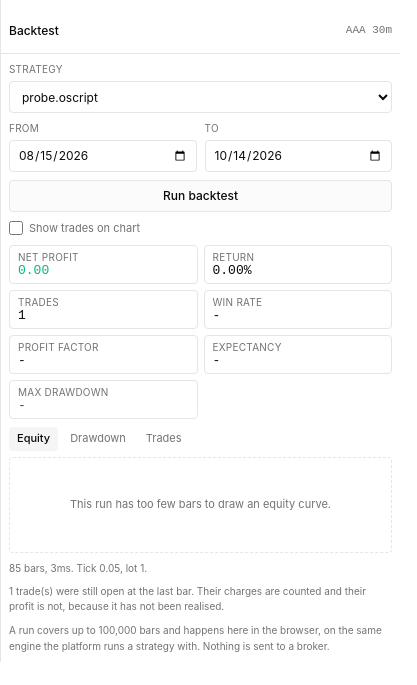
Test: the marks a run puts on the chart › puts the marks back when the switch is turned on, without running again
Expected: the text "85 bars, 3ms. Tick 0.05, lot 1." is shown, [9,562,147,574]
Click the checkbox labelled "Show trades on chart" at (16, 228), box [9,221,23,235]
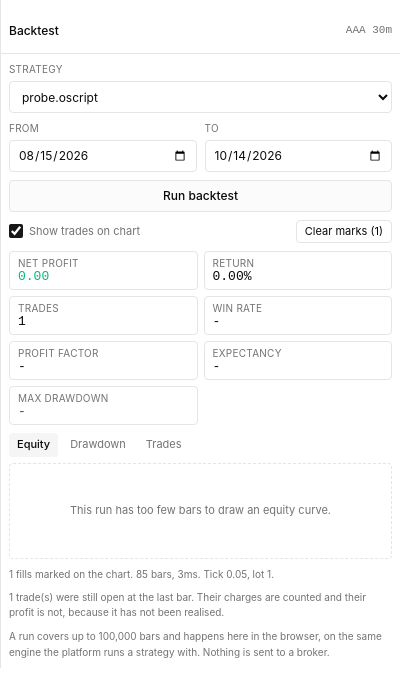
Result: the button "Clear marks (1)" is shown at [296,220,392,242]
